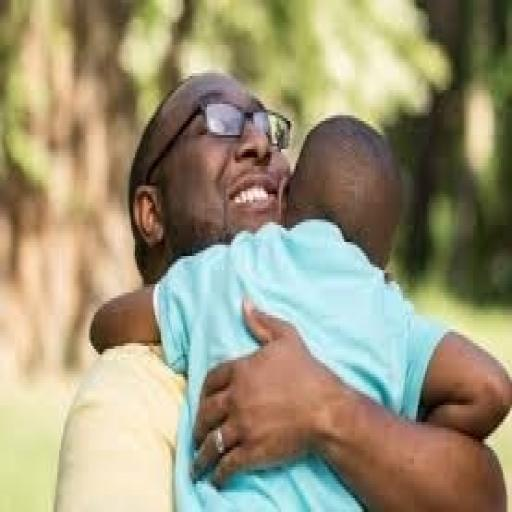hugging: (57, 68, 510, 509)
